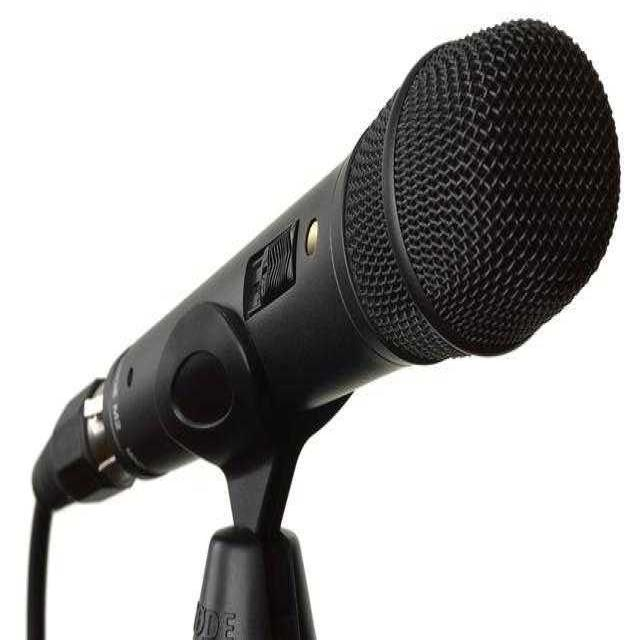microphone: (70, 0, 640, 510)
